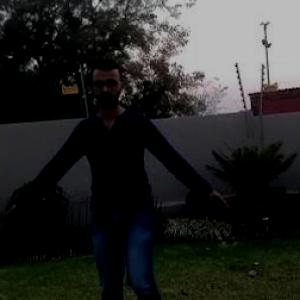land: (19, 69, 220, 299)
